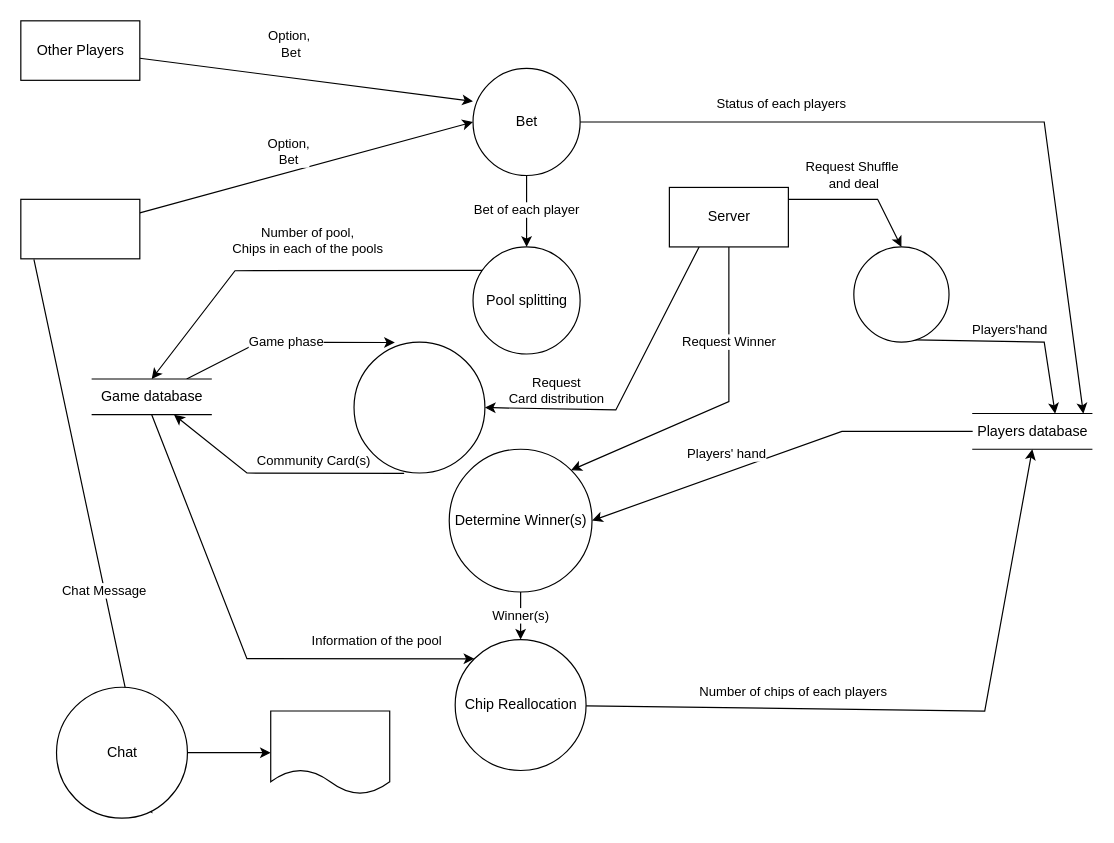
Image size: 1114x843. Some labels were removed from this diagram. The centre of each missing label's shape, as x and y in pixels:
"Chat Room" belongs at point (330, 752).
"Deal card to the community cards" belongs at point (419, 407).
"Player" belongs at point (80, 228).
"Shuffle and deal" belongs at point (901, 294).
